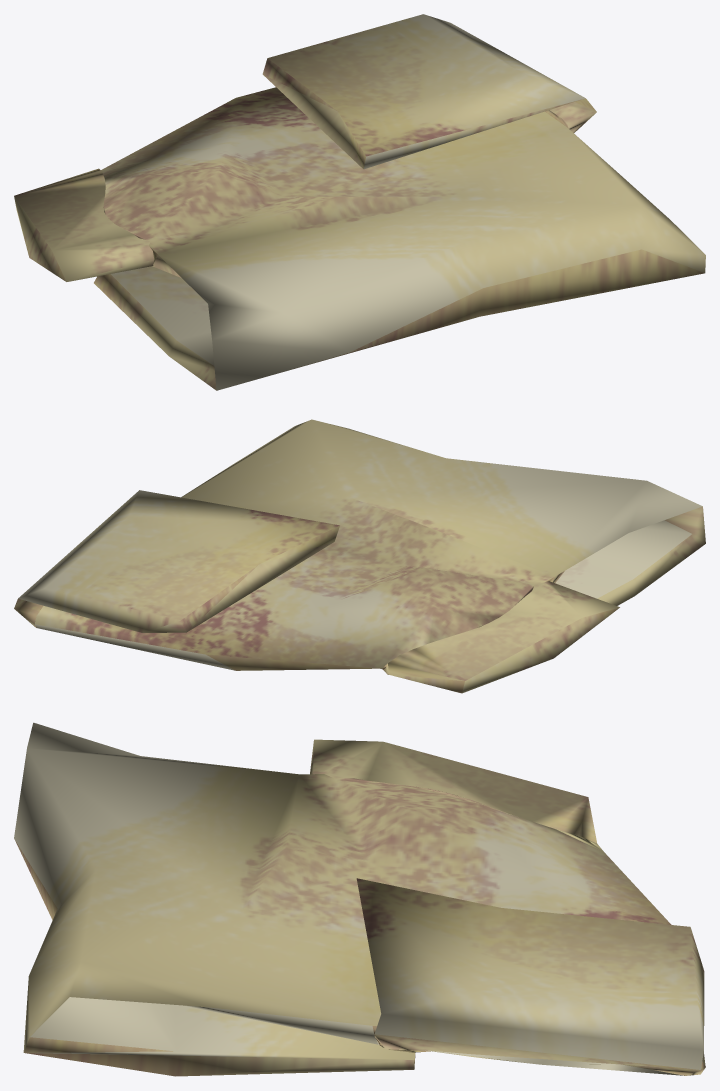
The model's file is MDL_CLWH_dirty.fbx.
3 views of the same model, one above another, from view 1: azimuth 30°, elevation 25°; view 2: azimuth 150°, elevation 25°; view 3: azimuth 270°, elevation 25° (orthographic). The views are drawn at different scales.
Parts seen in each view (by area): view 1: MDL_CL_dirty; view 2: MDL_CL_dirty; view 3: MDL_CL_dirty.
Boxes of the visible parts, left/top/right/bottom form: MDL_CL_dirty: left=14, top=14, right=705, bottom=390; MDL_CL_dirty: left=14, top=419, right=705, bottom=693; MDL_CL_dirty: left=14, top=722, right=705, bottom=1076.
Bounding box in the file's own units: 87.54 × 12.01 × 81.66.
